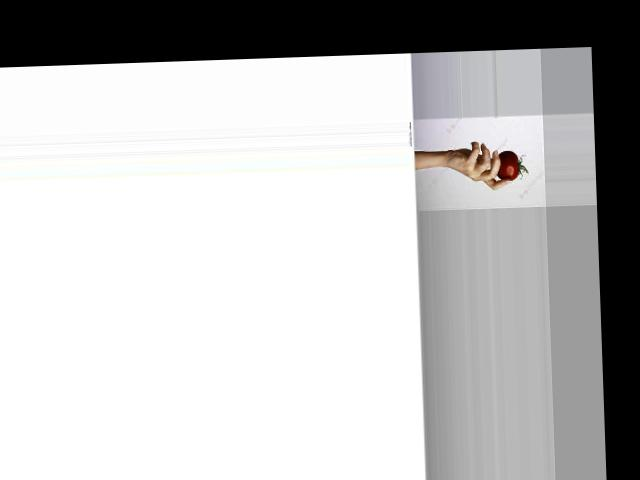tomato: (496, 150, 528, 180)
